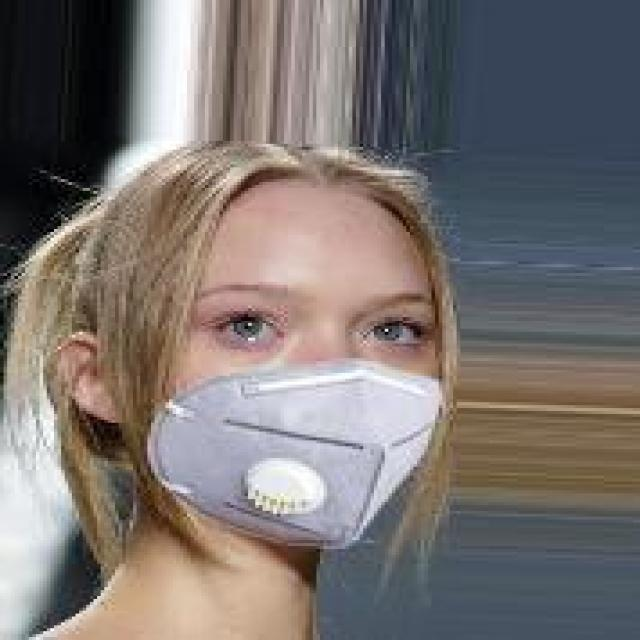mask: (50, 123, 471, 561)
